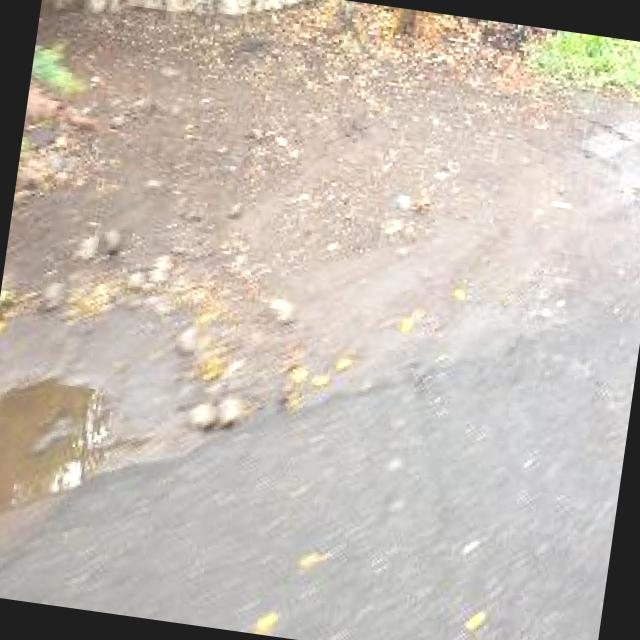stagnation: (0, 368, 128, 538)
